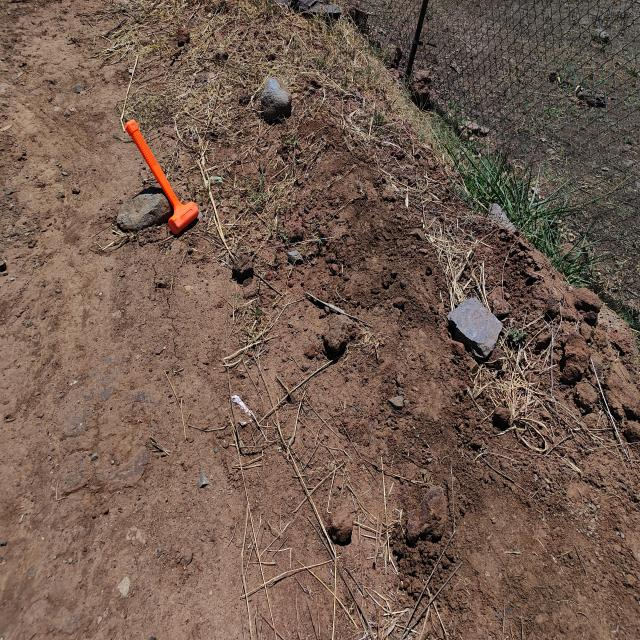Orange_hammer: (124, 117, 199, 236)
